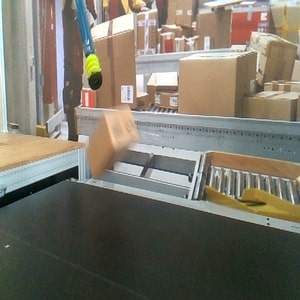box: (85, 105, 142, 180)
